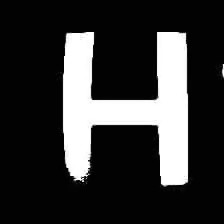LTR_H: (51, 14, 199, 191)
